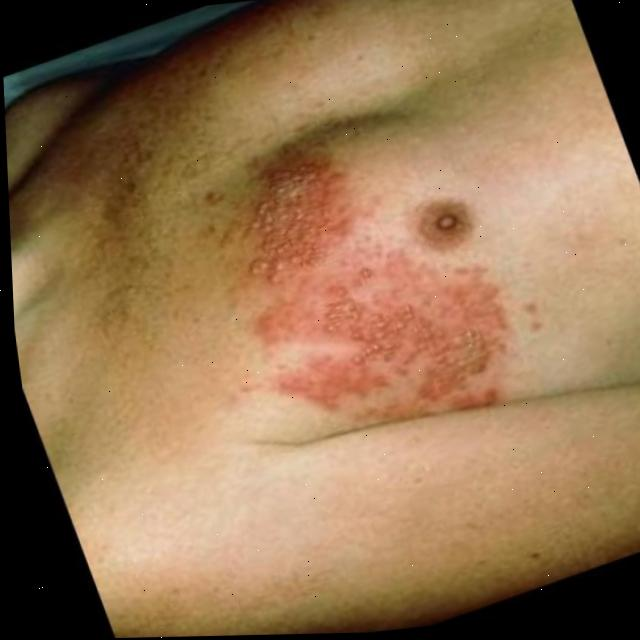Shingles: (279, 258, 501, 401), (229, 155, 354, 254)
